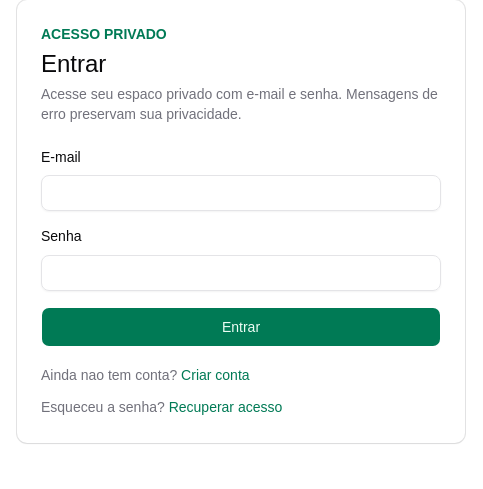
Test case: LoginPage › validates required password
In the field labelled "E-mail": point(241, 193) [41, 175, 441, 211], type "ana@example.com"
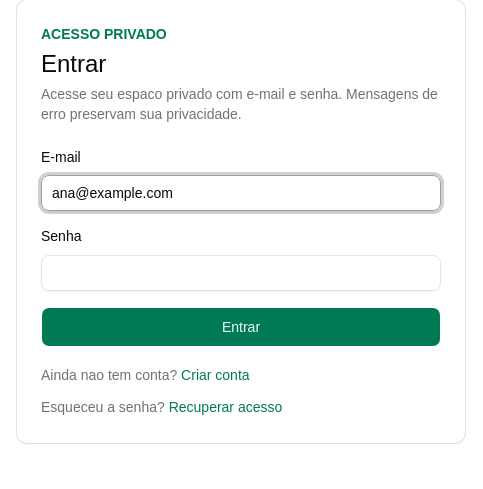
Click the button "Entrar": point(241, 326) [41, 306, 441, 346]
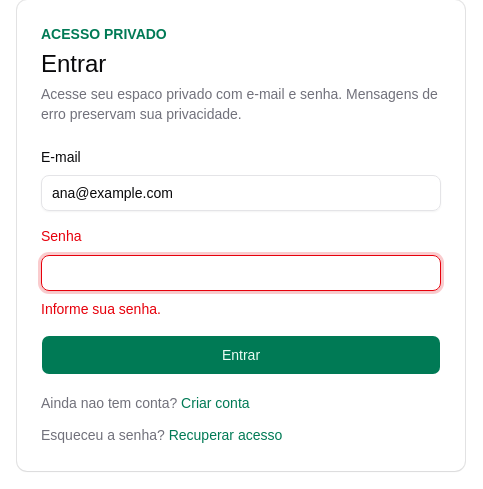
Check: the text "Informe sua senha." is shown, box [41, 300, 161, 316]
